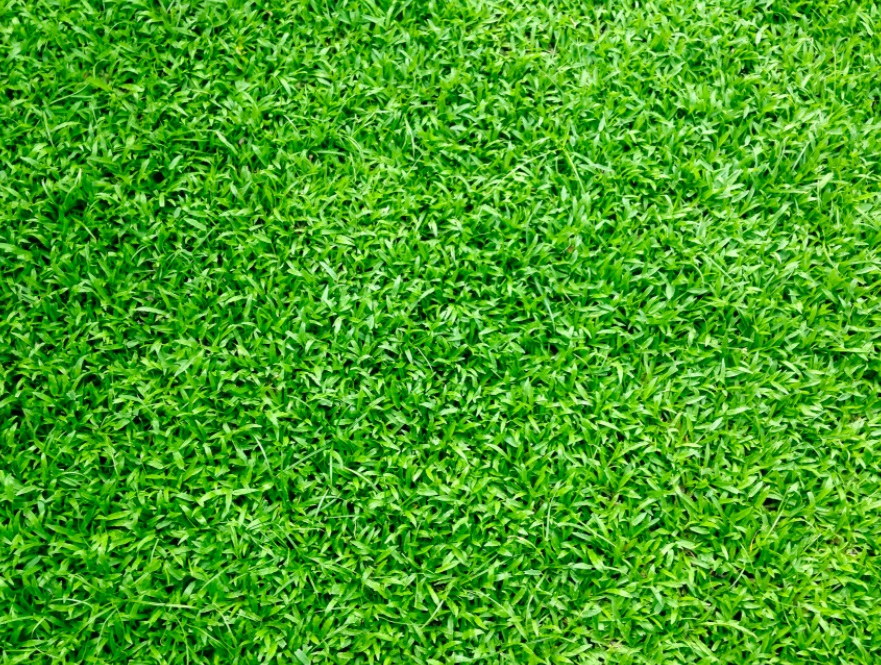Green: (21, 17, 864, 645)
